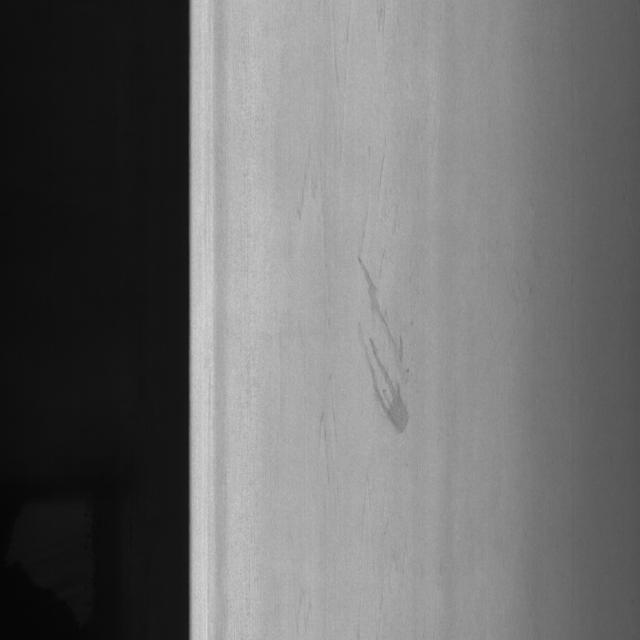water_spot: (349, 245, 437, 428)
